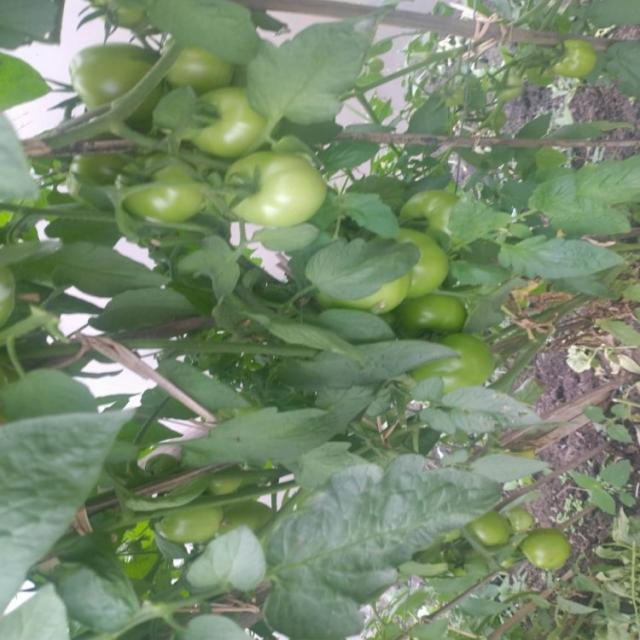tomato: (211, 148, 326, 230), (66, 31, 164, 125), (121, 147, 228, 233), (180, 85, 286, 162), (377, 213, 451, 314), (305, 249, 406, 320), (416, 321, 502, 401), (165, 38, 269, 99), (399, 186, 475, 244), (71, 121, 134, 187), (407, 273, 477, 328), (516, 526, 584, 582), (551, 34, 615, 88), (174, 500, 238, 550), (469, 507, 516, 550), (475, 71, 526, 101), (206, 468, 241, 503)
